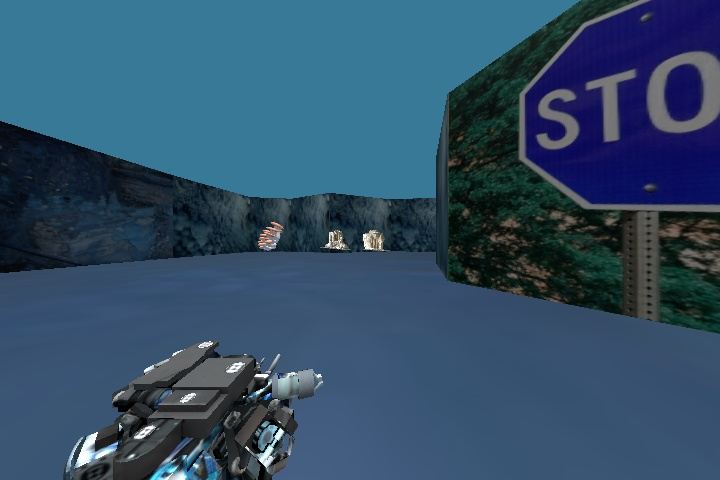formation: (358, 225, 390, 253), (320, 225, 346, 251)
mushrooms: (250, 213, 281, 254)
stop_sign: (512, 1, 720, 244)
